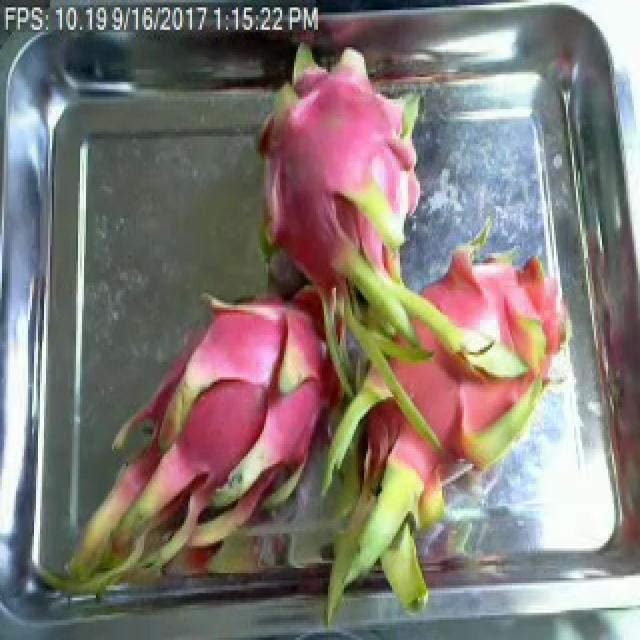Fruit: (176, 364, 280, 508)
